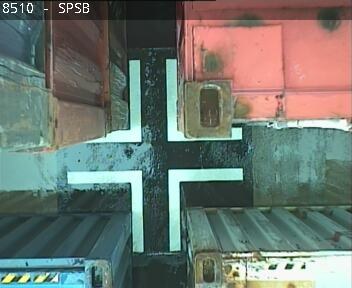groundmarker_1: (67, 167, 242, 252), (87, 58, 244, 145)
